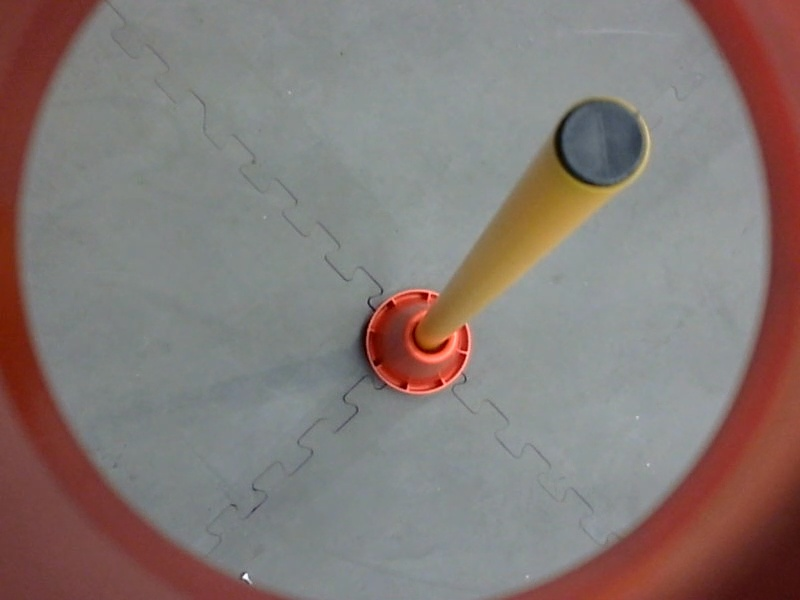tip: (543, 84, 660, 200)
